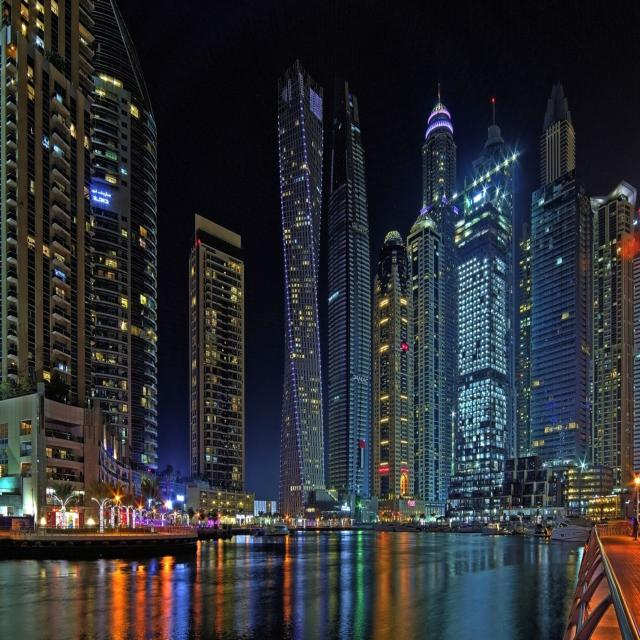light_signboard: (88, 183, 114, 209)
lighting: (472, 188, 486, 207), (576, 454, 589, 474), (85, 512, 99, 529), (38, 506, 47, 530)
streetlight: (626, 473, 640, 503), (110, 482, 123, 506), (283, 508, 291, 525), (135, 498, 144, 512), (194, 508, 202, 518), (151, 506, 156, 518)
